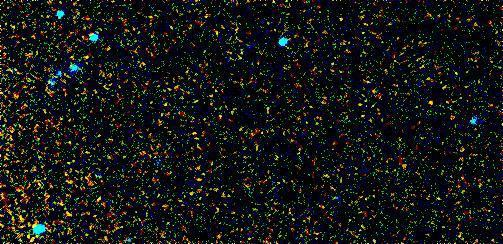star: (412, 88, 442, 118)
